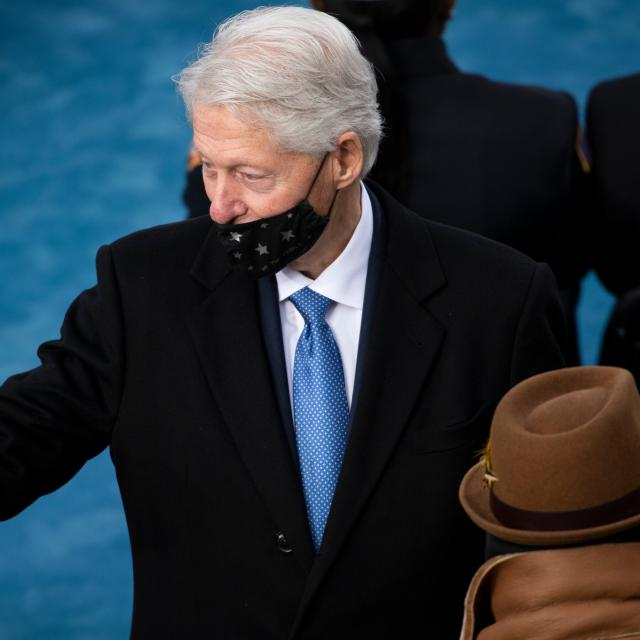mask: (206, 161, 345, 285)
